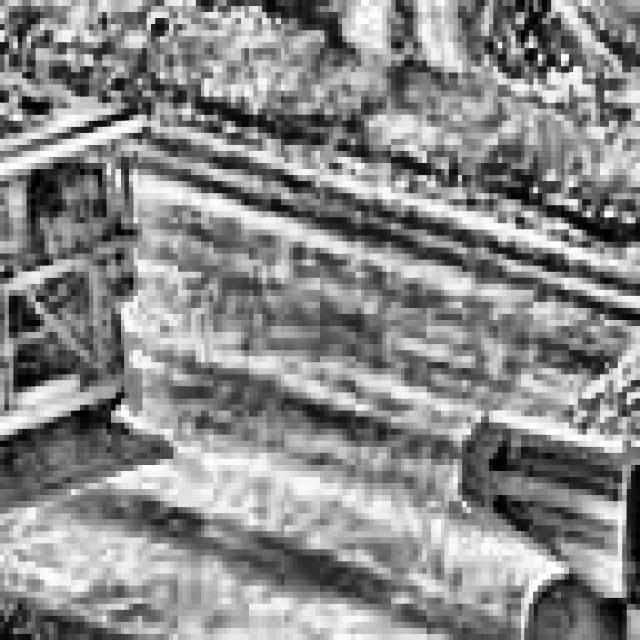dump_truck: (0, 24, 169, 507), (444, 253, 639, 640)
